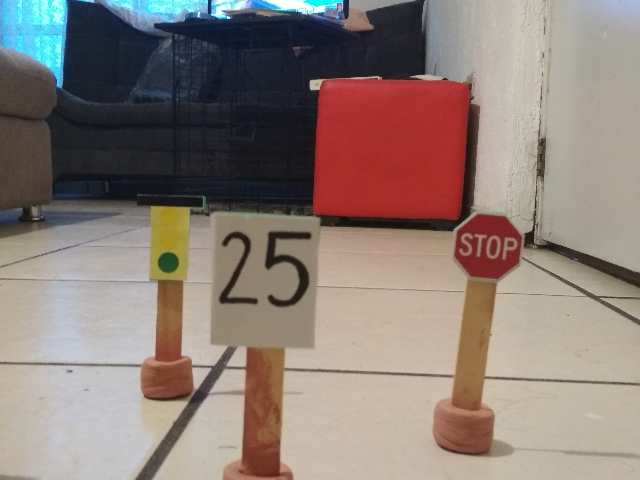Green: (130, 191, 206, 289)
Limit 25: (210, 210, 324, 349)
Stop: (454, 210, 525, 283)
